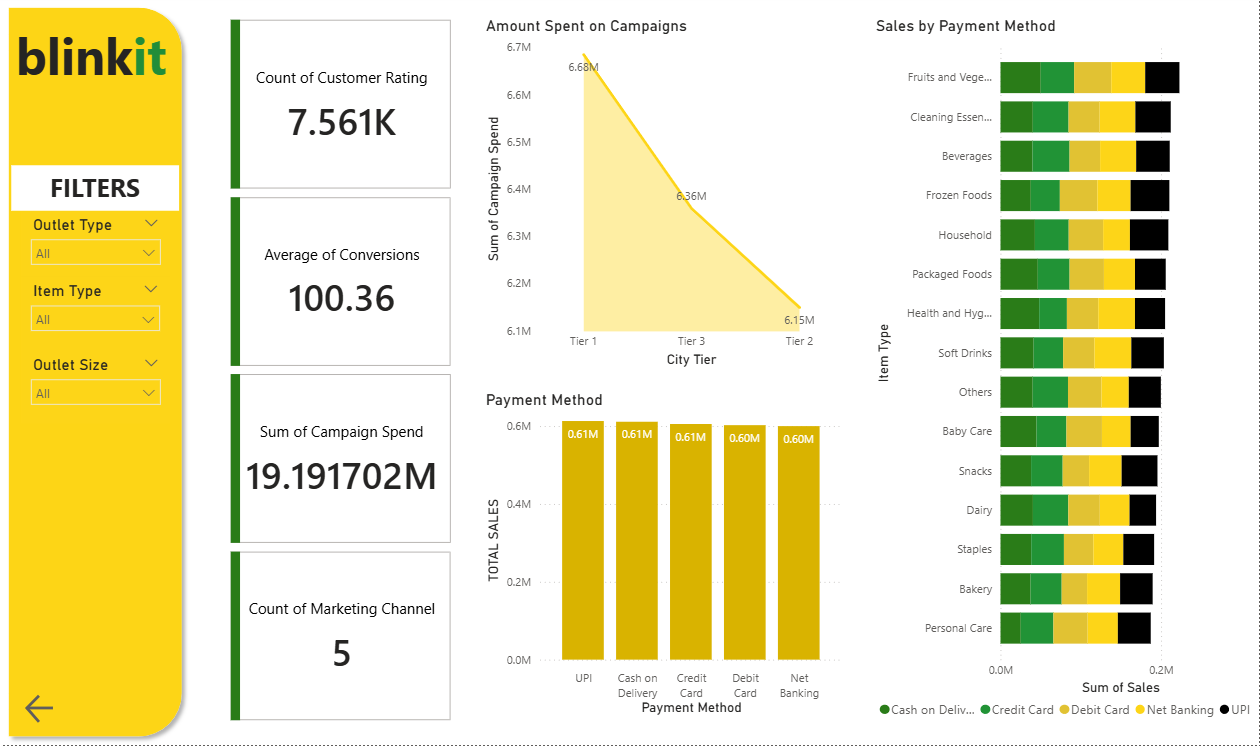

The dashboard page shown, as its layout file describes it:
{"tool":"powerbi","page":{"name":"2","canvas":[1350,800],"ordinal":1},"visuals":[{"type":"shape","box":[0,0,204.1,800.3],"z":0},{"type":"textbox","box":[11.6,18.8,230.1,83.9],"z":1000},{"type":"slicer","fields":{"Values":["blinkit_transformed_dashboard_d.Outlet Type"]},"box":[23,227,159.5,79.7],"z":2000},{"type":"slicer","fields":{"Values":["blinkit_transformed_dashboard_d.Outlet Size"]},"box":[23,377,159.5,78.4],"z":3000},{"type":"slicer","fields":{"Values":["blinkit_transformed_dashboard_d.Item Type"]},"box":[23,297.3,159,79.7],"z":4000},{"type":"textbox","box":[12.2,178.4,179.7,48.6],"z":5000},{"type":"cardVisual","fields":{"Data":["CountNonNull(blinkit_transformed_dashboard_d.Customer Rating)","Avg(blinkit_transformed_dashboard_d.Conversions)","Sum(blinkit_transformed_dashboard_d.Campaign Spend)","Count(blinkit_transformed_dashboard_d.Marketing Channel)"]},"box":[242.6,17.4,246.7,764.1],"z":6000},{"type":"clusteredColumnChart","title":"Payment Method","fields":{"Category":["blinkit_transformed_dashboard_d.Payment Method"],"Y":["blinkit_transformed_dashboard_d.TOTAL SALES"]},"box":[516.1,419.6,392.8,353.9],"z":7000},{"type":"lineChart","title":"Amount Spent on Campaigns","fields":{"Y":["Sum(blinkit_transformed_dashboard_d.Campaign Spend)"],"Category":["blinkit_transformed_dashboard_d.City Tier"]},"box":[516.1,18.8,392.8,380.7],"z":8000},{"type":"barChart","title":"Sales by Payment Method","fields":{"Category":["blinkit_transformed_dashboard_d.Item Type"],"Series":["blinkit_transformed_dashboard_d.Payment Method"],"Y":["Sum(blinkit_transformed_dashboard_d.Sales)"]},"box":[933.8,18.9,416.2,762.2],"z":9000},{"type":"actionButton","box":[22.8,741.3,100.5,40.2],"z":10000}]}

Visuals, with their boxes in screenshot pixels (x1, y1, x2, y2), scaled from the page's 1350x800 canvas onto the 1260x746 screenshot:
shape: (x1=0, y1=0, x2=190, y2=745)
textbox: (x1=11, y1=18, x2=226, y2=96)
slicer - blinkit_transformed_dashboard_d.Outlet Type: (x1=21, y1=212, x2=170, y2=286)
slicer - blinkit_transformed_dashboard_d.Outlet Size: (x1=21, y1=352, x2=170, y2=425)
slicer - blinkit_transformed_dashboard_d.Item Type: (x1=21, y1=277, x2=170, y2=352)
textbox: (x1=11, y1=166, x2=179, y2=212)
cardVisual - CountNonNull(blinkit_transformed_dashboard_d.Customer Rating) x Avg(blinkit_transformed_dashboard_d.Conversions): (x1=226, y1=16, x2=457, y2=729)
"Payment Method" clusteredColumnChart: (x1=482, y1=391, x2=848, y2=721)
"Amount Spent on Campaigns" lineChart: (x1=482, y1=18, x2=848, y2=373)
"Sales by Payment Method" barChart: (x1=872, y1=18, x2=1259, y2=728)
actionButton: (x1=21, y1=691, x2=115, y2=729)
